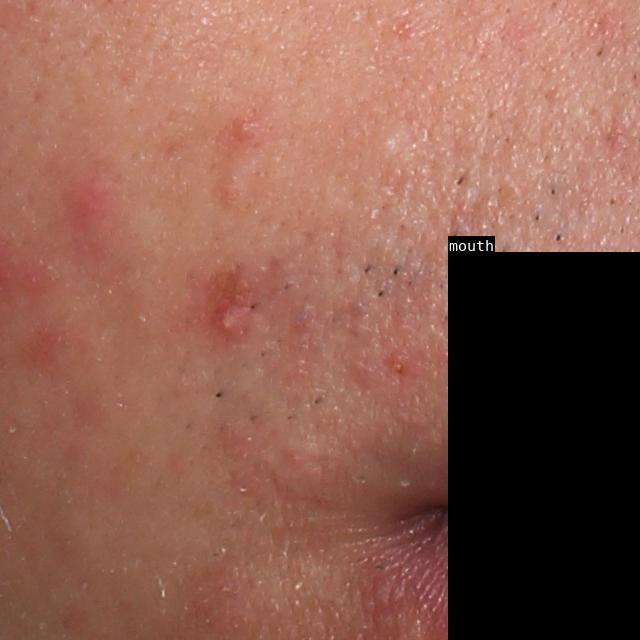papule: (231, 116, 265, 142)
pustule: (203, 293, 259, 354)
